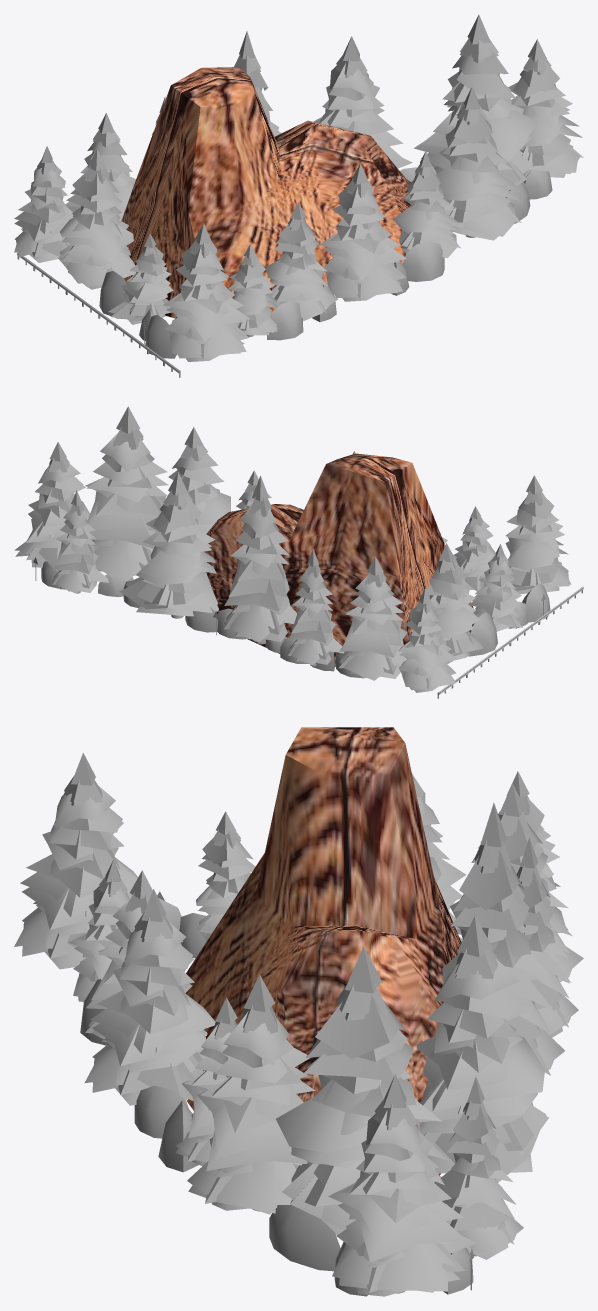
Rendered from Zone_10.fbx.
3 renders of one model, top to bottom at view 1: azimuth 30°, elevation 25°; view 2: azimuth 150°, elevation 25°; view 3: azimuth 270°, elevation 25°, orthographic. The views are drawn at different scales.
Parts seen in each view (by area): view 1: polymsh17; view 2: polymsh17; view 3: polymsh17.
Boxes of the visible parts, x1,y1,x2,y2 form: polymsh17: (14, 14, 583, 377); polymsh17: (14, 406, 583, 698); polymsh17: (14, 727, 583, 1296).
Size of the model in its own units: 47.8 by 17.48 by 29.05.
